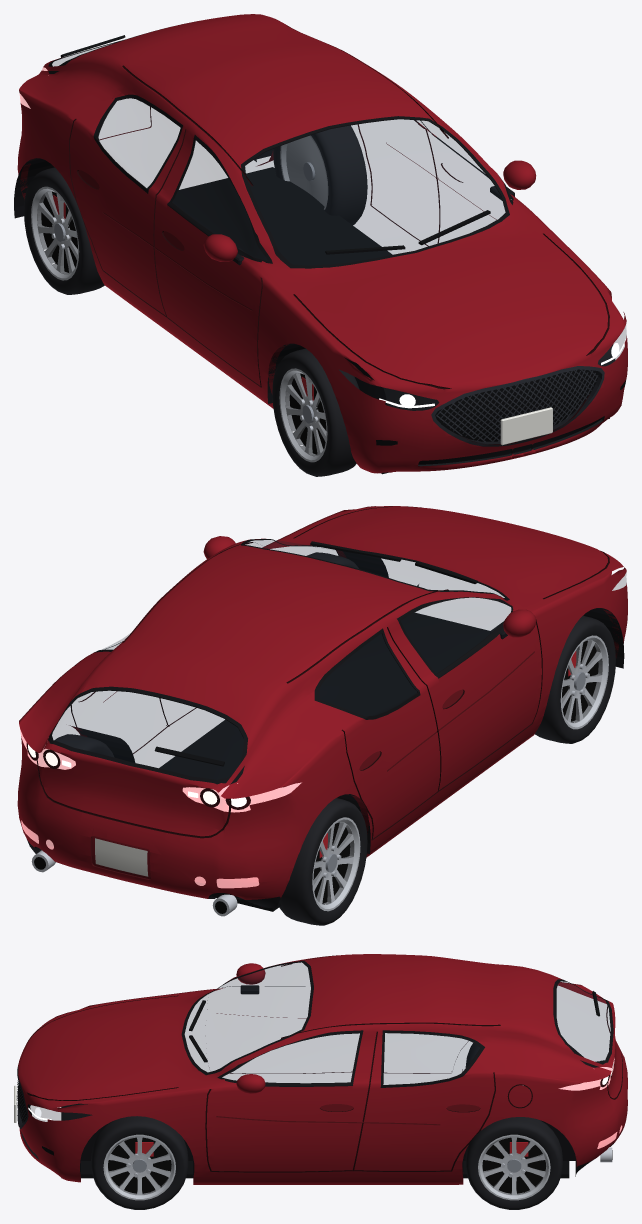
The model's file is car_hatch.glb.
The picture shows the model from 3 angles, top to bottom: view 1: azimuth 30°, elevation 25°; view 2: azimuth 150°, elevation 25°; view 3: azimuth 270°, elevation 25°; orthographic projection. The views are drawn at different scales.
Parts seen in each view (by area): view 1: body, wheel_fl, wheel_rl, wheel_rr; view 2: body, wheel_rl, wheel_fl, wheel_rr; view 3: body, wheel_fr, wheel_rr.
Boxes of the visible parts, box(x1,y1,x2,y2) form: body: box(14, 14, 627, 474); wheel_fl: box(272, 348, 359, 476); wheel_rl: box(24, 167, 104, 294); wheel_rr: box(273, 125, 367, 225); body: box(17, 506, 627, 916); wheel_rl: box(279, 798, 367, 925); wheel_fl: box(535, 615, 615, 743); wheel_rr: box(27, 734, 114, 853); body: box(14, 954, 627, 1184); wheel_fr: box(91, 1116, 188, 1209); wheel_rr: box(465, 1117, 562, 1209).
Size of the model in its own units: 2.06 by 1.44 by 4.46.
